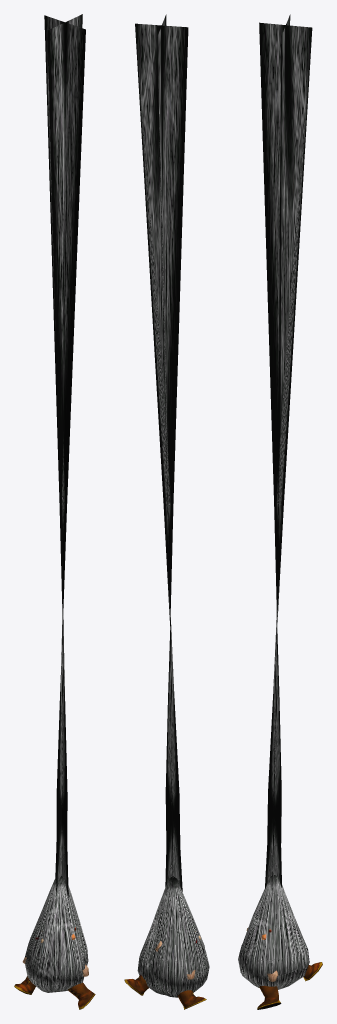
File: CINE04_RESCUEDDWARVESFLEE_GROUP1_SHOT00_COCOON.fbx
The picture shows the model from 3 angles, left to right: view 1: azimuth 30°, elevation 25°; view 2: azimuth 150°, elevation 25°; view 3: azimuth 330°, elevation 25°; orthographic projection.
Visible parts, largest first — view 1: CINE04_RESCUEDDWARVESFLEE_GROUP1_SHOT00_COCOON; view 2: CINE04_RESCUEDDWARVESFLEE_GROUP1_SHOT00_COCOON; view 3: CINE04_RESCUEDDWARVESFLEE_GROUP1_SHOT00_COCOON.
Part boxes in pixels (x1,y1,x2,y2): CINE04_RESCUEDDWARVESFLEE_GROUP1_SHOT00_COCOON: (14, 14, 95, 1009); CINE04_RESCUEDDWARVESFLEE_GROUP1_SHOT00_COCOON: (124, 14, 209, 1009); CINE04_RESCUEDDWARVESFLEE_GROUP1_SHOT00_COCOON: (238, 14, 322, 1009).
Bounding box in the file's own units: 10473 × 138919 × 10468.
5 materials, 5 textured.
